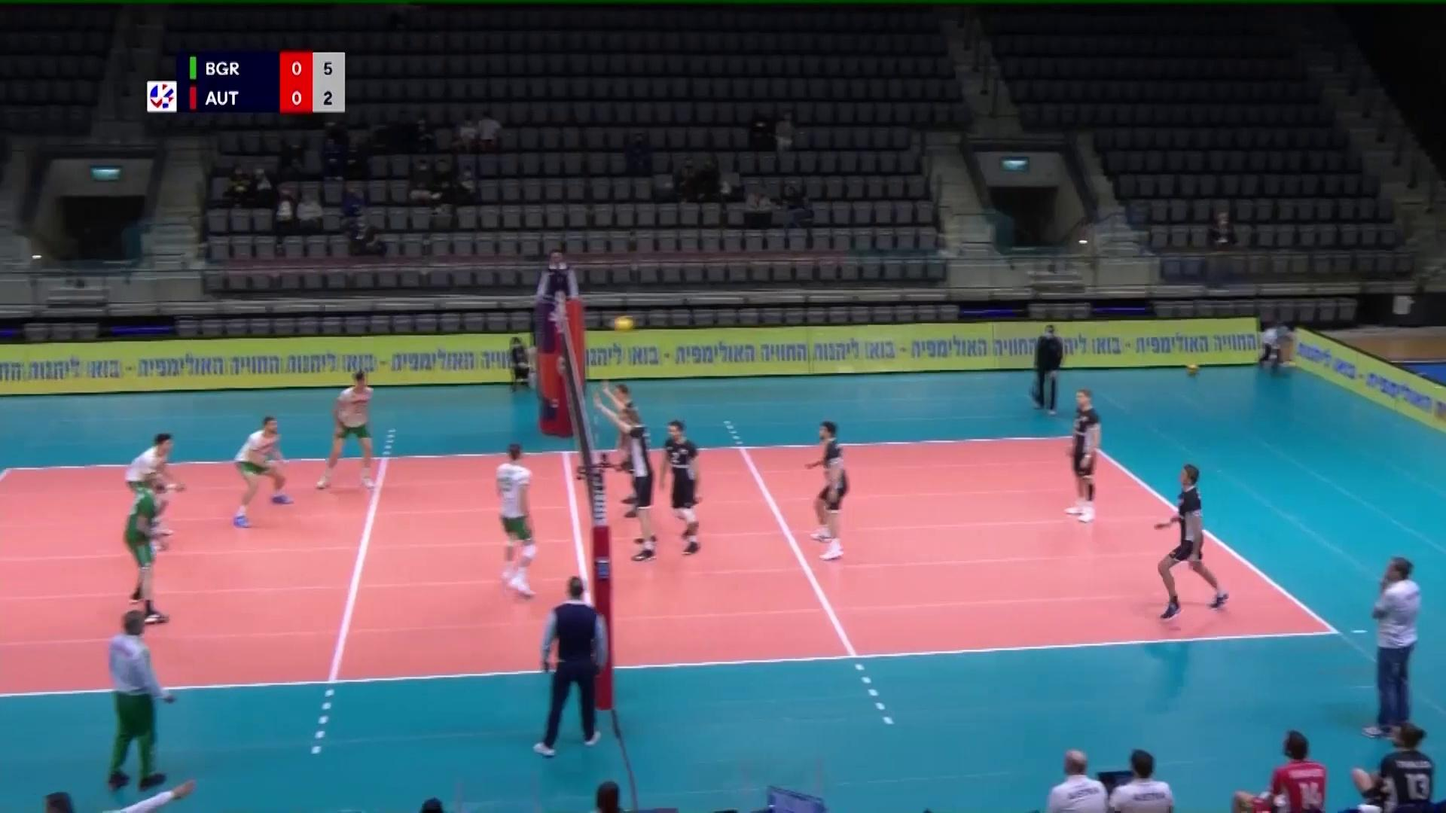ball: (613, 315, 634, 332)
